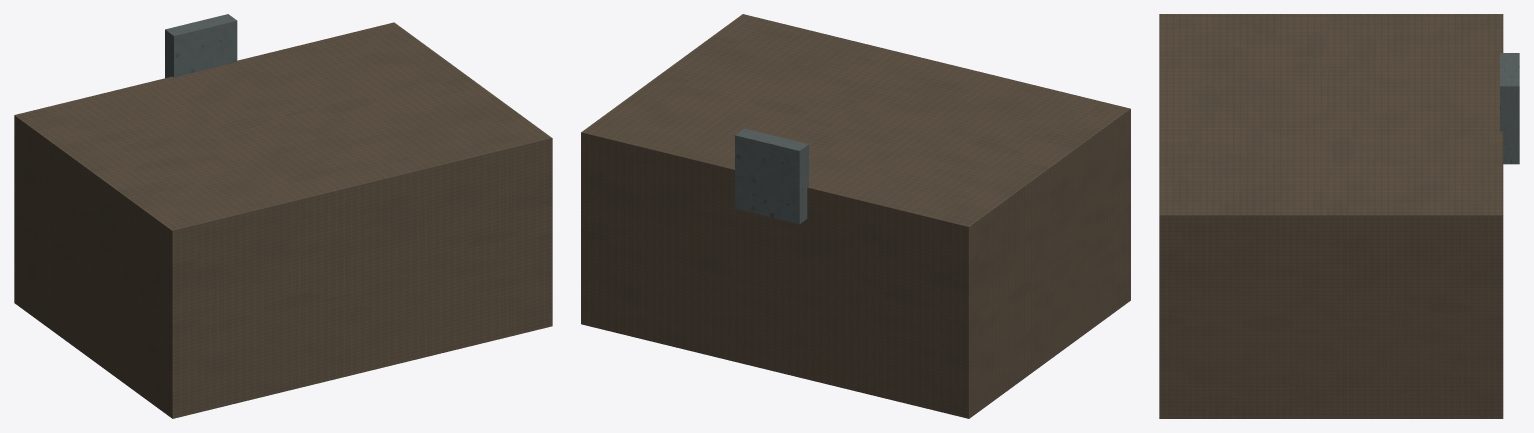
File: pr-006_first_aid_kit__closed.obj
3 views of the same model, side by side, from view 1: azimuth 30°, elevation 25°; view 2: azimuth 150°, elevation 25°; view 3: azimuth 270°, elevation 25° (orthographic). The views are drawn at different scales.
Parts seen in each view (by area): view 1: pr-006_first_aid_kit__closed; view 2: pr-006_first_aid_kit__closed; view 3: pr-006_first_aid_kit__closed.
Part boxes in pixels (x1,y1,x2,y2): pr-006_first_aid_kit__closed: (14, 14, 552, 418); pr-006_first_aid_kit__closed: (581, 14, 1130, 418); pr-006_first_aid_kit__closed: (1159, 14, 1519, 418).
Size of the model in its own units: 0.72 by 0.415 by 0.545.
2 materials, 2 textured.
